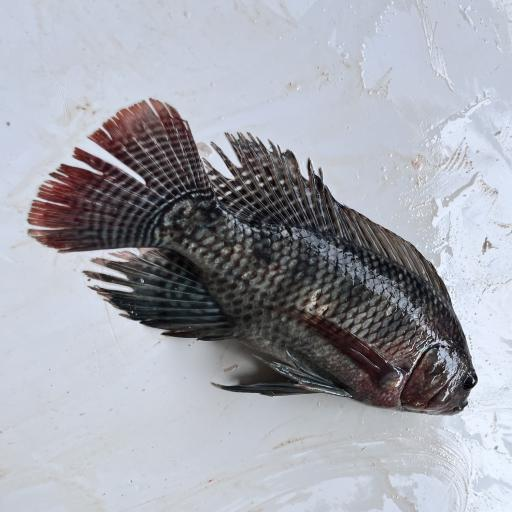Tilapia: (26, 97, 478, 416)
